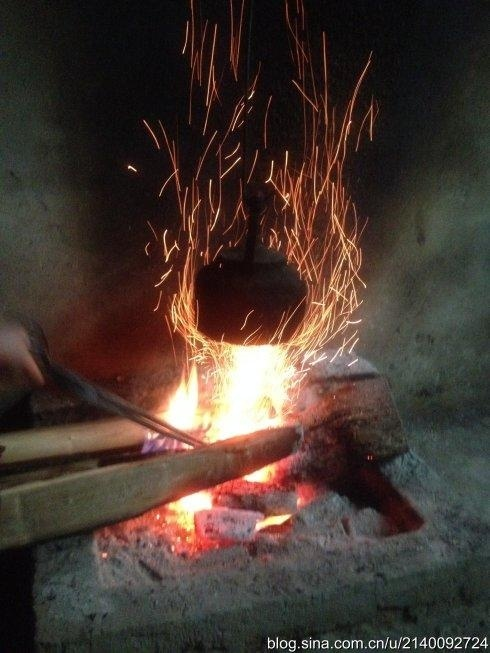fire: (155, 332, 300, 440)
